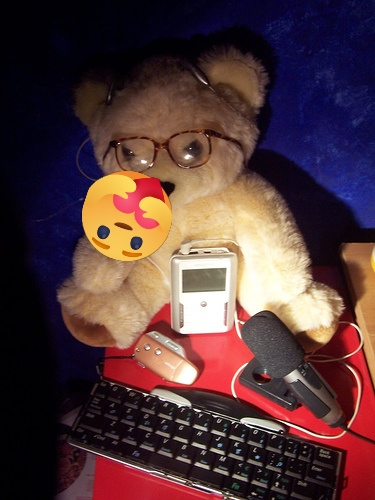care: (82, 171, 172, 261)
